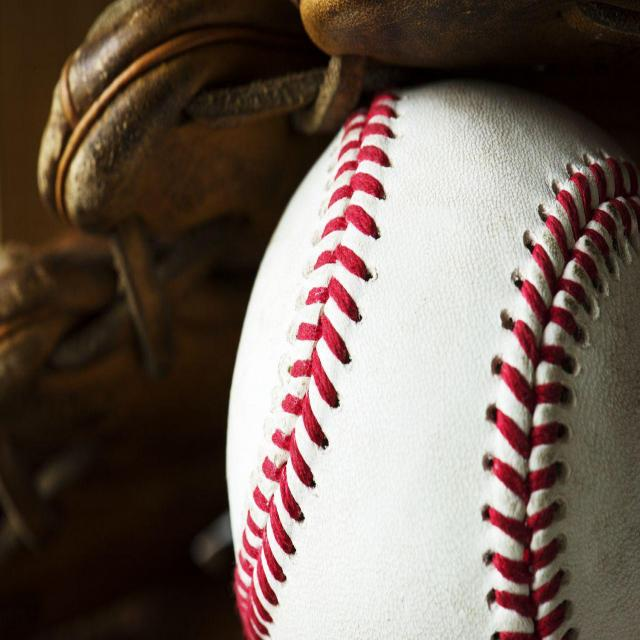baseball: (222, 68, 620, 638)
